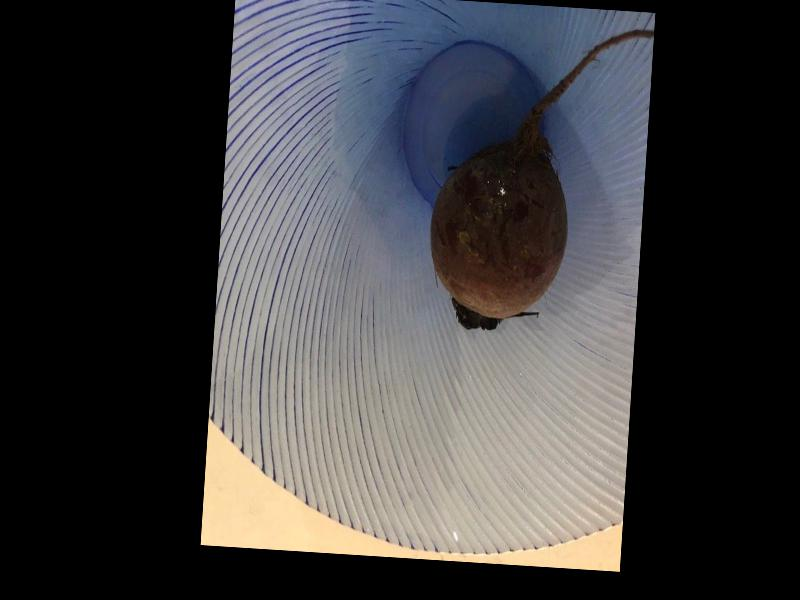Beet: (424, 18, 654, 341)
